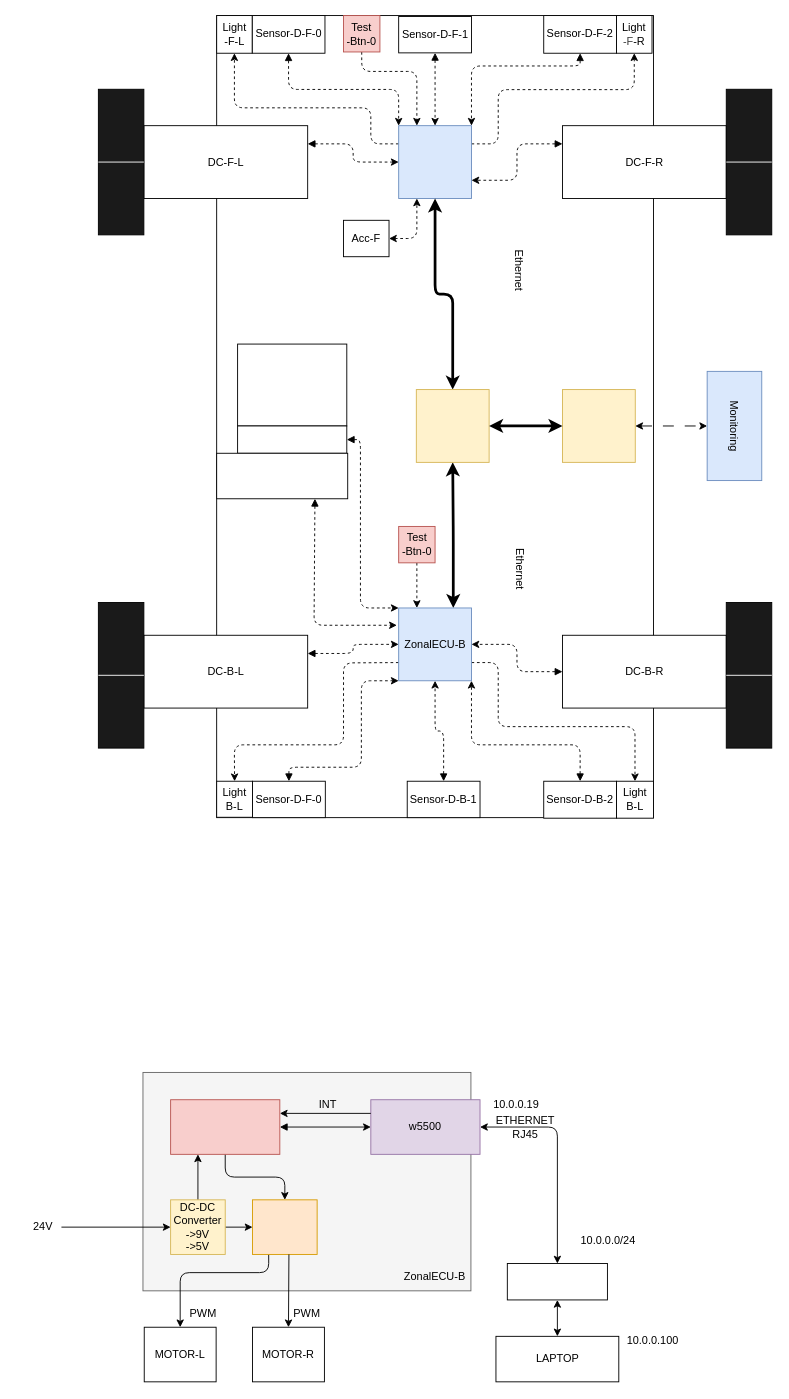
This 789x1399 diagram has some shape labels left out. The shapes that lost their labels are listed below. From the top down, each one's box as (x1, y1, x2, y2) in pixels, then its label:
(398, 125, 471, 198): ZonalECU-F
(237, 343, 347, 426): BAT
(237, 425, 347, 453): BMS
(415, 389, 489, 462): Central Switch
(562, 389, 635, 462): CCU
(216, 452, 348, 499): CHARGER
(170, 1099, 280, 1154): ESP32
(252, 1199, 317, 1254): H-Bridge
(506, 1263, 607, 1300): SWITCH
